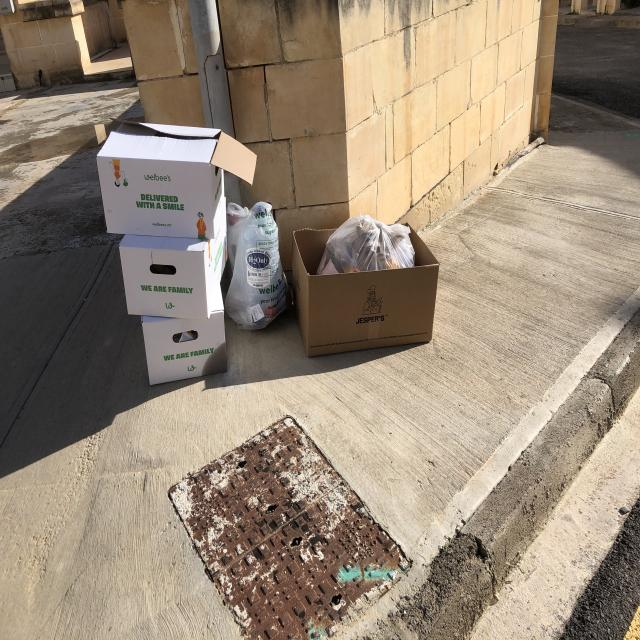Other: (293, 224, 441, 359), (97, 121, 259, 241), (121, 199, 229, 319), (142, 284, 229, 388)
Recycled Waste -Grey or Green Bag-: (228, 203, 287, 332), (318, 219, 417, 280)
